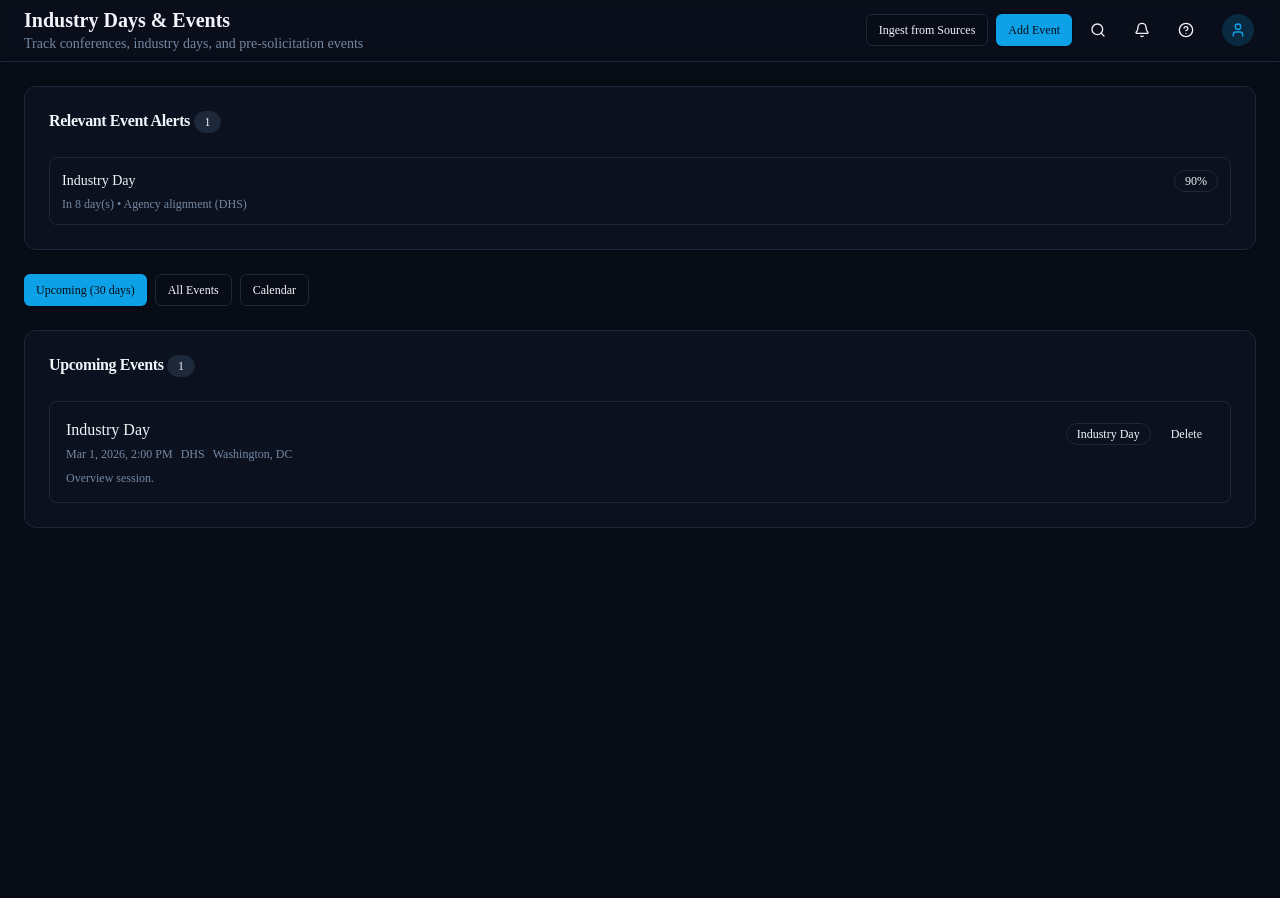
Test: EventsPage › renders alerts and calendar view
Check: the heading "Industry Days & Events" is shown, box [24,8,230,30]
Check: the heading "Relevant Event Alerts 1" is shown, box [49,111,221,133]
Click the button "Calendar" at (274,290), box [240,274,309,306]
(page scrolled)
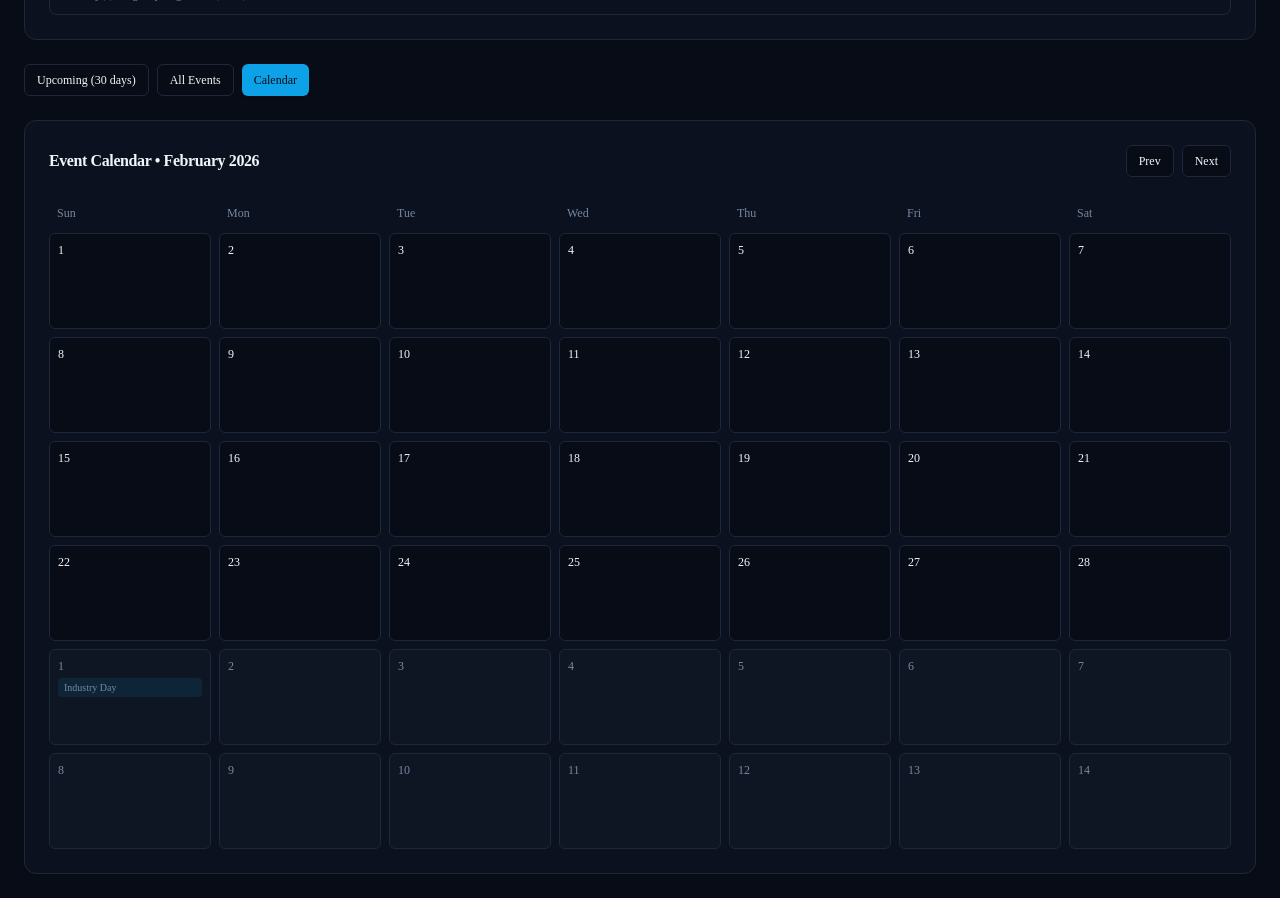
Check: the element with test id "events-calendar-grid" is shown
